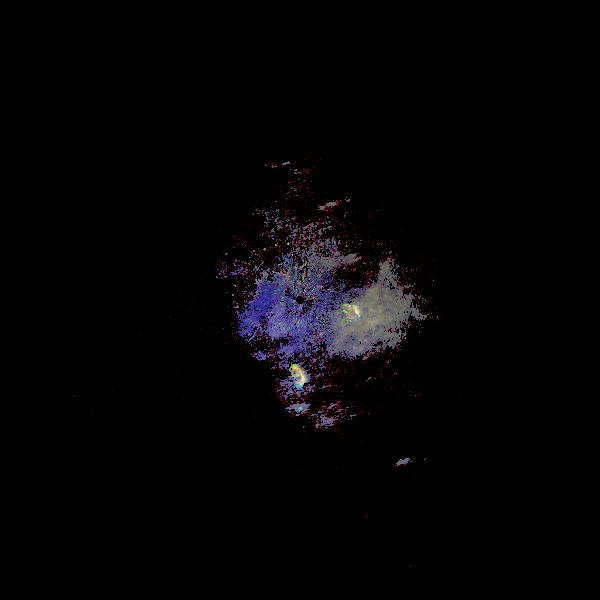roost: (284, 361, 314, 391), (341, 302, 362, 323)
